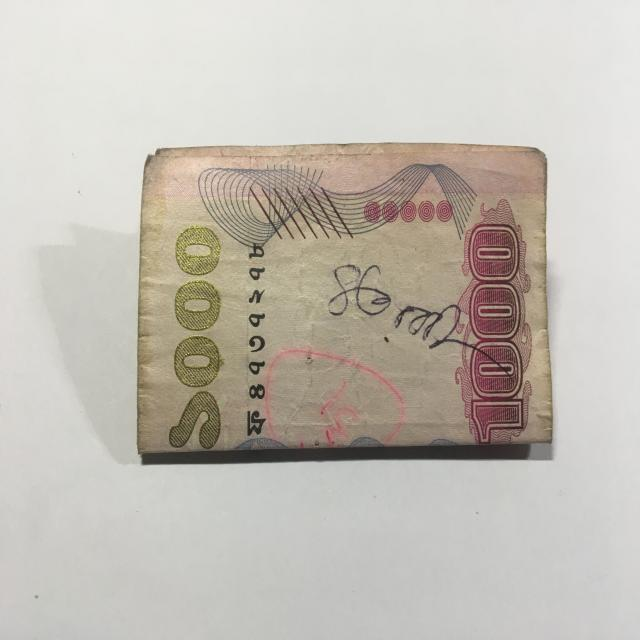Taka: (132, 145, 554, 452)
